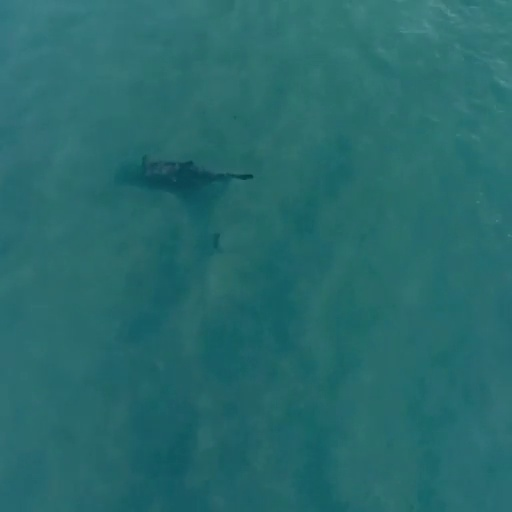shark: (136, 151, 257, 194)
